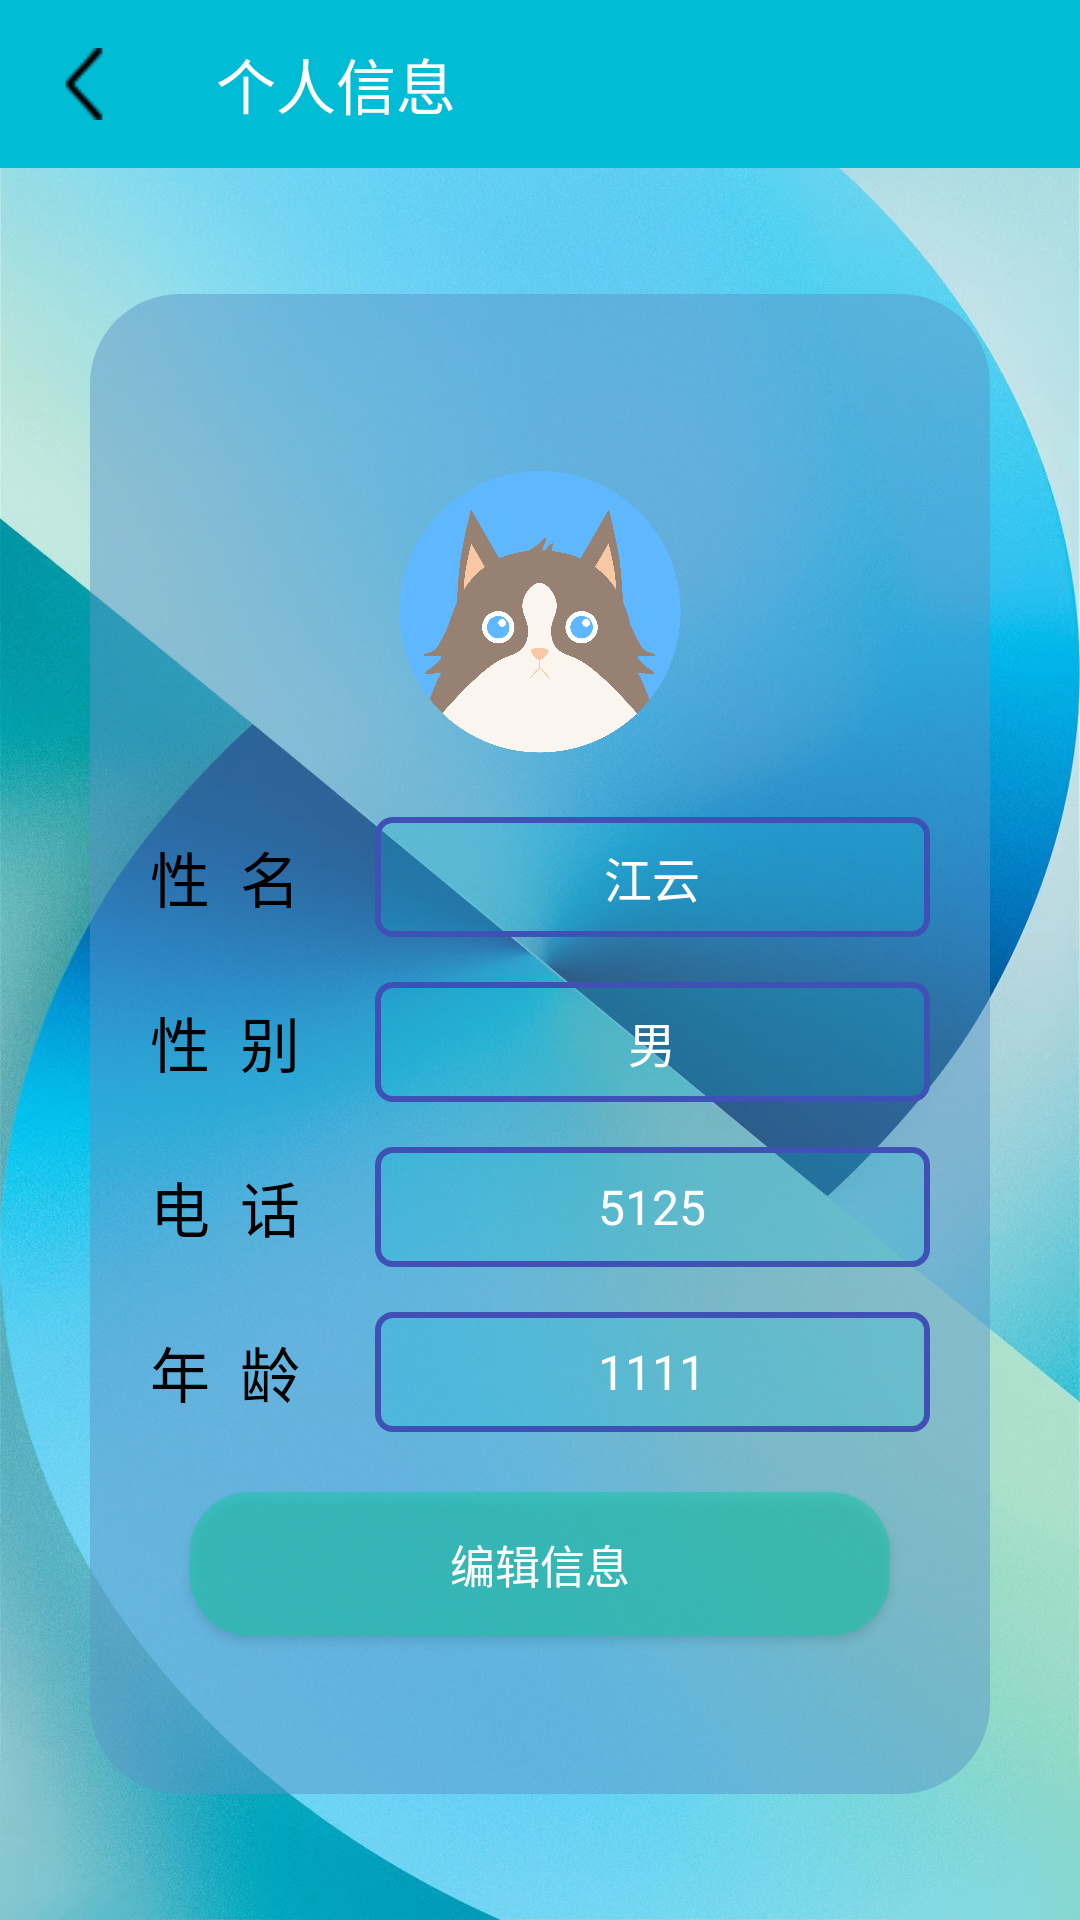

Screen size 1080 × 1920. Icon name, then its center in pixels as (x,y):
buoumao: (540,621)
